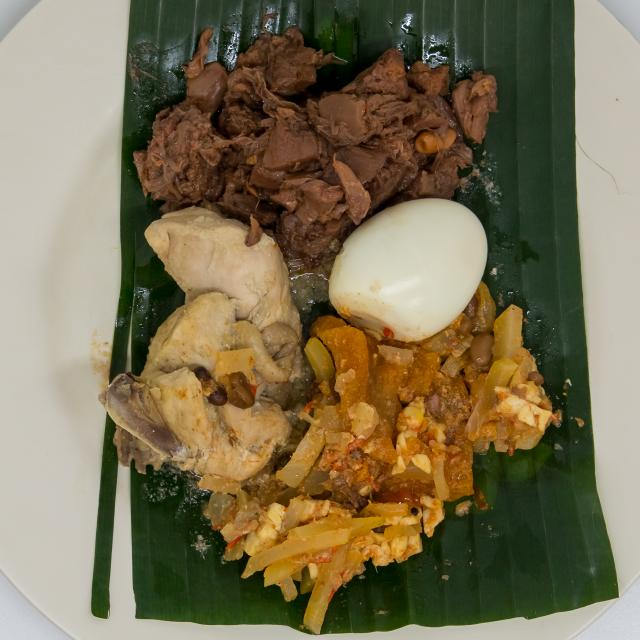Gudeg-Jogja: (93, 9, 588, 617)
